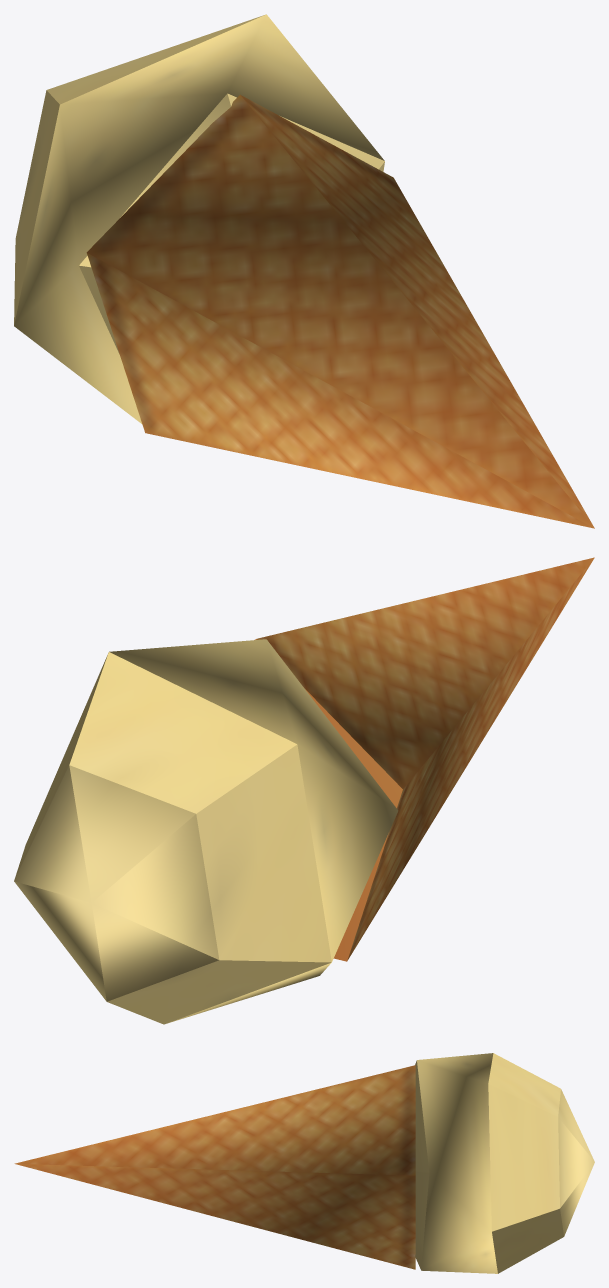
File: IceCream_Cone_1.fbx
3 views of the same model, one above another, from view 1: azimuth 30°, elevation 25°; view 2: azimuth 150°, elevation 25°; view 3: azimuth 270°, elevation 25° (orthographic). The views are drawn at different scales.
Visible parts, largest first — view 1: IceCream_Cone_1; view 2: IceCream_Cone_1; view 3: IceCream_Cone_1.
Part boxes in pixels (<box>): IceCream_Cone_1: <box>14,14,594,528</box>; IceCream_Cone_1: <box>14,557,594,1024</box>; IceCream_Cone_1: <box>14,1053,594,1273</box>.
Bounding box in the file's own units: 73.48 × 78.43 × 198.
